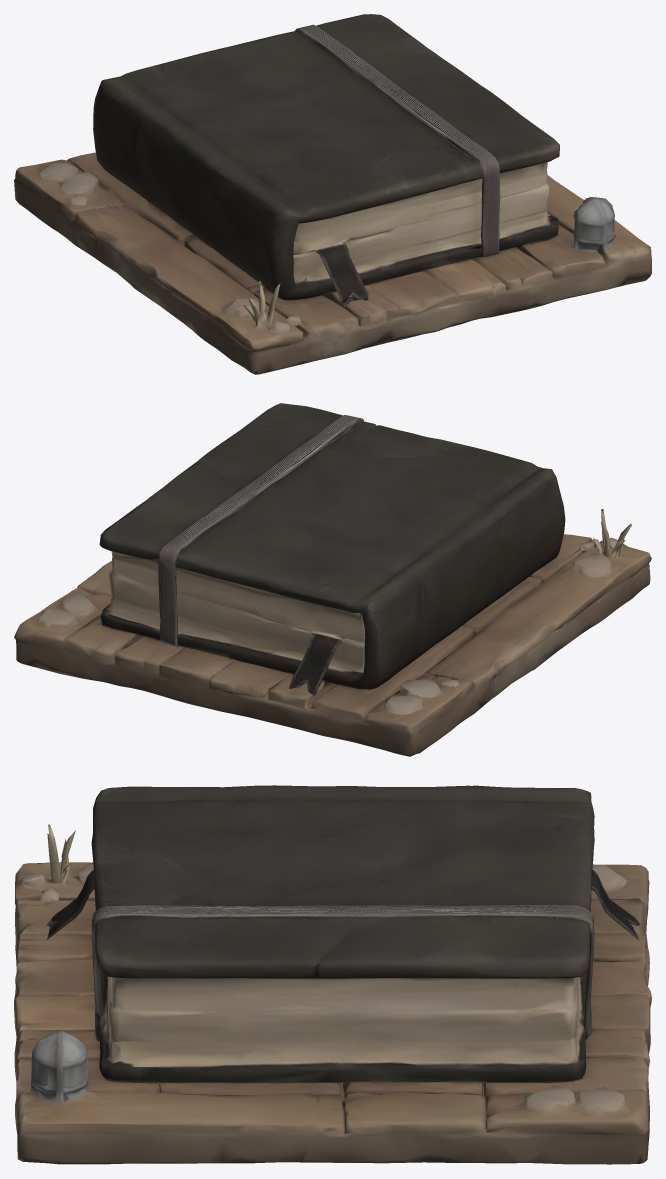
The model's file is item_notebook.glb.
3 views of the same model, one above another, from view 1: azimuth 30°, elevation 25°; view 2: azimuth 150°, elevation 25°; view 3: azimuth 270°, elevation 25° (orthographic). The views are drawn at different scales.
Parts seen in each view (by area): view 1: tripo_node_04d9d5d2-49c5-4869-9f13-c48bf63c8eac; view 2: tripo_node_04d9d5d2-49c5-4869-9f13-c48bf63c8eac; view 3: tripo_node_04d9d5d2-49c5-4869-9f13-c48bf63c8eac.
Boxes of the visible parts, x1,y1,x2,y2 form: tripo_node_04d9d5d2-49c5-4869-9f13-c48bf63c8eac: (14, 14, 651, 374); tripo_node_04d9d5d2-49c5-4869-9f13-c48bf63c8eac: (14, 403, 651, 756); tripo_node_04d9d5d2-49c5-4869-9f13-c48bf63c8eac: (14, 785, 651, 1164).
Size of the model in its own units: 0.9639 by 0.295 by 1.
Materials: 1 (1 with a texture image).
